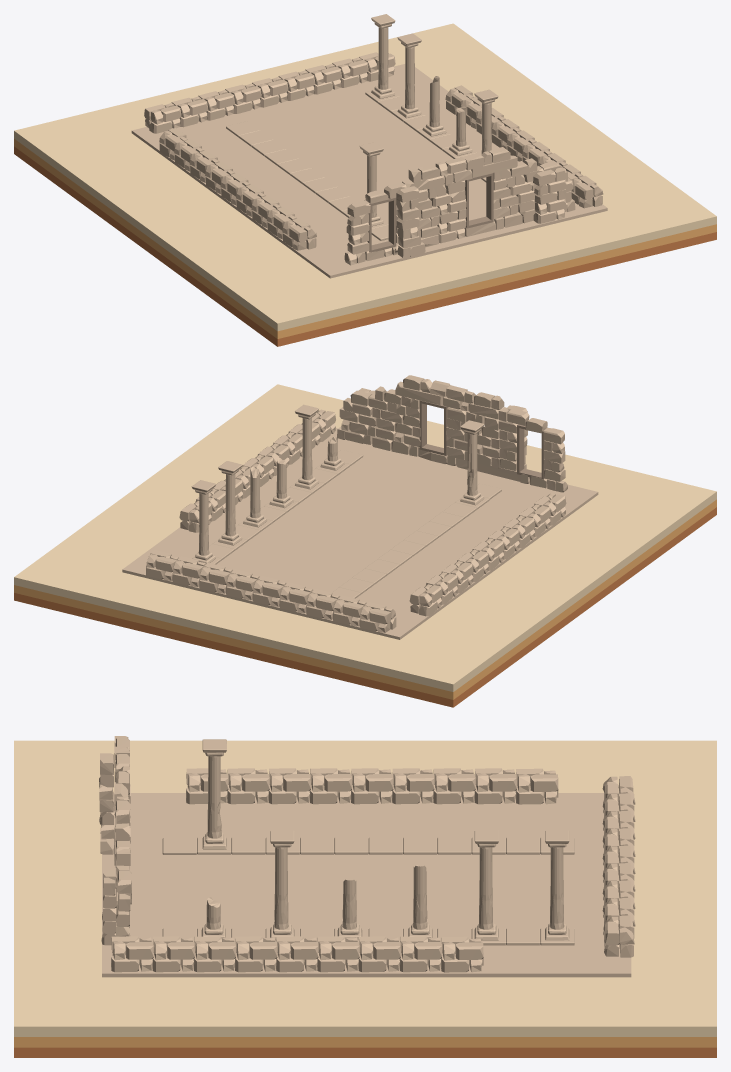
File: ruins.gltf
3 renders of one model, top to bottom at view 1: azimuth 30°, elevation 25°; view 2: azimuth 150°, elevation 25°; view 3: azimuth 270°, elevation 25°, orthographic. The views are drawn at different scales.
Parts seen in each view (by area): view 1: Cube_2, Cube_8, Sweep, Sweep_1, Cylinder_instance, Cylinder_instance_2; view 2: Cube_2, Cube_8, Sweep_1, Cylinder, Sweep, Cylinder_instance_2, Cylinder_4, Cylinder_instance; view 3: Cube_2, Cube_8, Cylinder_instance, Cylinder_instance_2, Cylinder_4, Cylinder, Cylinder_2, Cylinder_3, Cube_3_10, Cube_3_10.001, Cube_3_2.001, Cube_3_4.001 (+5 smaller).
Boxes of the visible parts, left/top/right/bottom form: Cube_2: left=14, top=23, right=716, bottom=346; Cube_8: left=131, top=64, right=607, bottom=278; Sweep: left=364, top=197, right=396, bottom=252; Sweep_1: left=465, top=173, right=493, bottom=228; Cylinder_instance: left=378, top=27, right=388, bottom=89; Cylinder_instance_2: left=405, top=46, right=414, bottom=109; Cube_2: left=14, top=384, right=716, bottom=707; Cube_8: left=122, top=428, right=598, bottom=639; Sweep_1: left=419, top=400, right=448, bottom=455; Cylinder: left=467, top=433, right=477, bottom=495; Sweep: left=517, top=424, right=547, bottom=479; Cylinder_instance_2: left=225, top=474, right=235, bottom=536; Cylinder_4: left=302, top=418, right=312, bottom=479; Cylinder_instance: left=198, top=493, right=209, bottom=555; Cube_2: left=14, top=740, right=716, bottom=1057; Cube_8: left=102, top=793, right=631, bottom=977; Cylinder_instance: left=549, top=847, right=564, bottom=929; Cylinder_instance_2: left=478, top=847, right=493, bottom=929; Cylinder_4: left=274, top=847, right=288, bottom=929; Cylinder: left=207, top=756, right=221, bottom=838; Cylinder_2: left=413, top=865, right=427, bottom=929; Cylinder_3: left=342, top=878, right=356, bottom=929; Cube_3_10: left=506, top=928, right=540, bottom=945; Cube_3_10.001: left=506, top=837, right=540, bottom=854; Cube_3_2.001: left=231, top=837, right=265, bottom=854; Cube_3_4.001: left=300, top=837, right=334, bottom=854.
Bounding box in the file's own units: 8.21 × 1.85 × 8.53.
